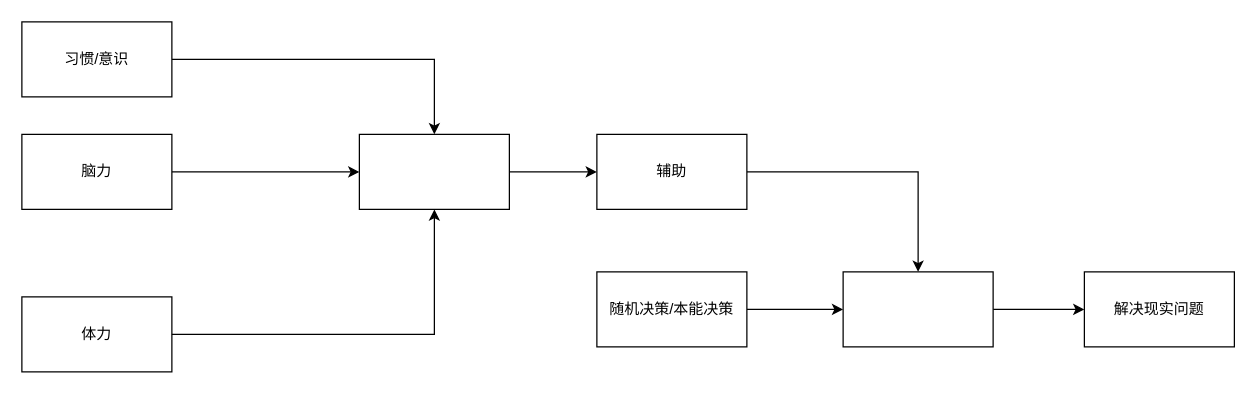
Some shapes in this 1256 by 394 pixel diagram are drawn without their labels. The shapes that lost their labels are listed below. From the top down, each one's centre as x and y in pixels, then its label:
(433,171): 思考
(917,309): 决策
